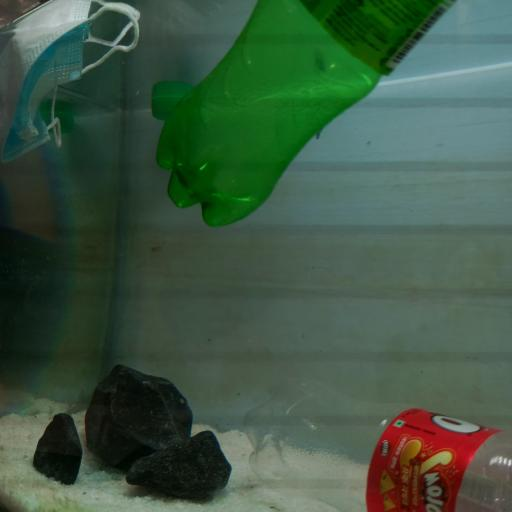bottle_cap: (151, 95, 185, 118)
mask: (2, 0, 140, 163)
plastic_bottle: (156, 0, 454, 229), (241, 378, 512, 510)
